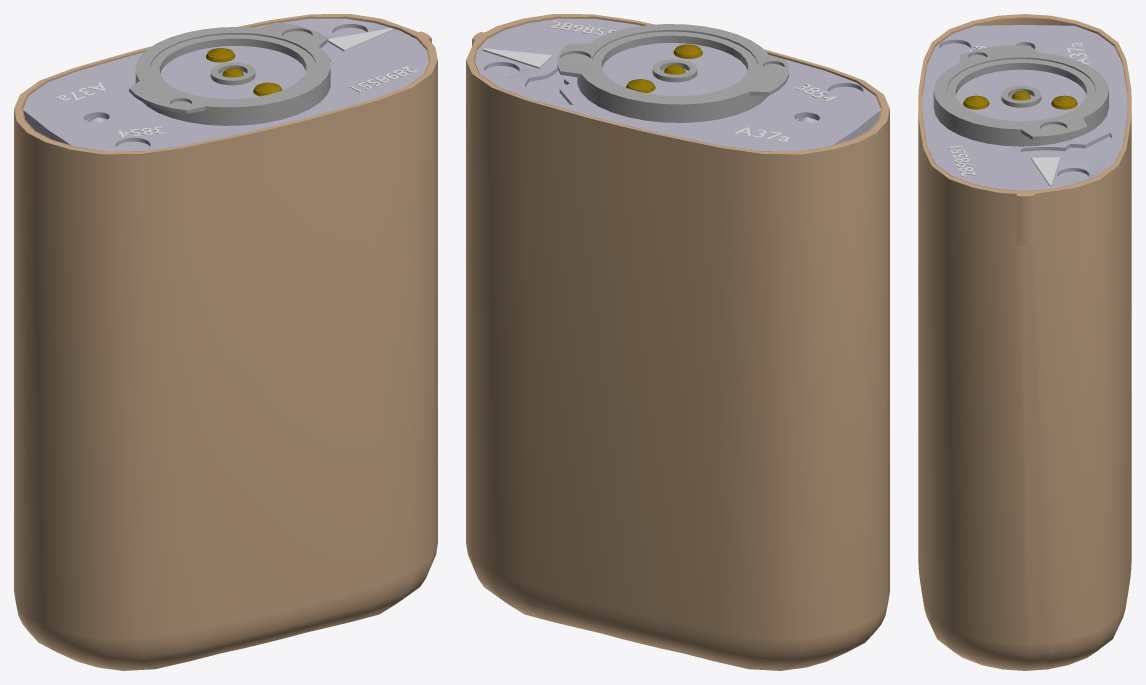
Rendered from nucleus7_battery_long_beige.glb.
3 renders of one model, left to right at view 1: azimuth 30°, elevation 25°; view 2: azimuth 150°, elevation 25°; view 3: azimuth 270°, elevation 25°, orthographic. The views are drawn at different scales.
Visible parts, largest first — view 1: Battery Module for Charging; view 2: Battery Module for Charging; view 3: Battery Module for Charging.
Part boxes in pixels (x1,y1,x2,y2): Battery Module for Charging: (14,14,437,670); Battery Module for Charging: (466,14,889,670); Battery Module for Charging: (918,14,1131,670).
Size of the model in its own units: 0.048 by 0.0641 by 0.0238.
